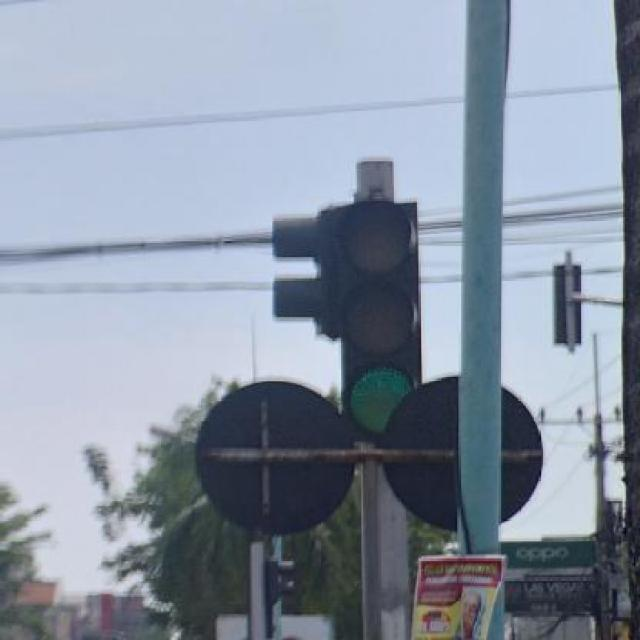traffic light: (336, 200, 423, 438)
